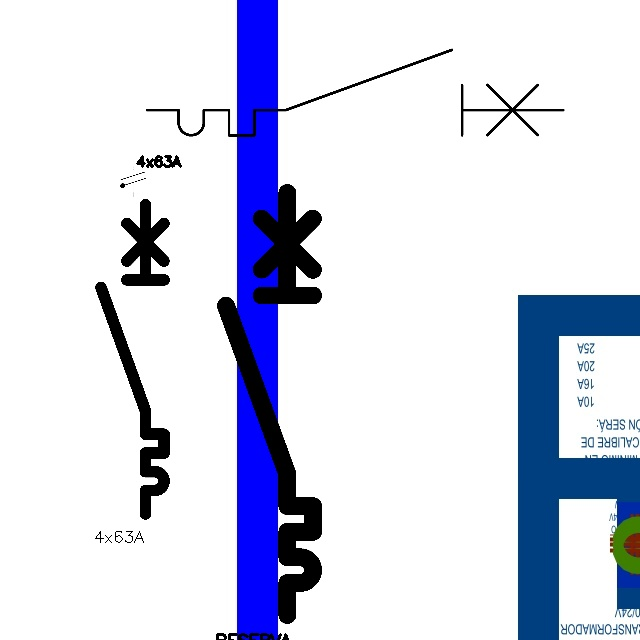interruptor_termomagnetico: (215, 182, 324, 626), (136, 39, 574, 146), (93, 196, 172, 521)
